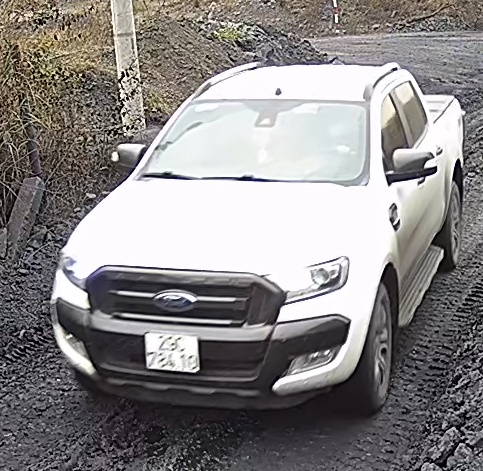vehicle plate: (142, 326, 208, 371)
